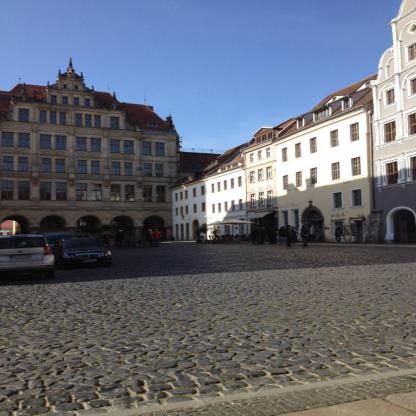Car: (5, 228, 54, 276), (60, 232, 114, 266), (45, 231, 60, 250)
